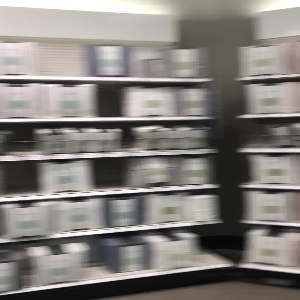void: (37, 38, 88, 79), (1, 159, 40, 200), (91, 158, 136, 193), (197, 225, 226, 268)
